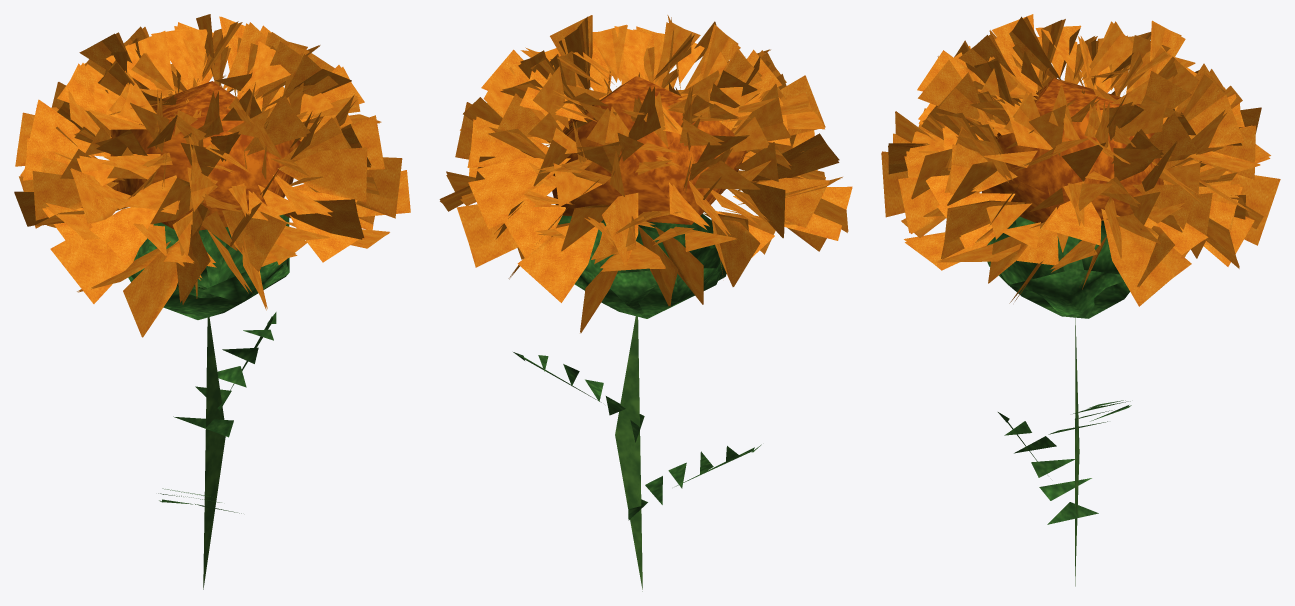
Rendered from flor_cempasuchil_lod.obj.
The picture shows the model from 3 angles, left to right: view 1: azimuth 30°, elevation 25°; view 2: azimuth 150°, elevation 25°; view 3: azimuth 270°, elevation 25°; orthographic projection.
Visible parts, largest first — view 1: Flor_Cempasuchil; view 2: Flor_Cempasuchil; view 3: Flor_Cempasuchil.
Part boxes in pixels (x1,y1,x2,y2): Flor_Cempasuchil: [14, 14, 410, 589]; Flor_Cempasuchil: [439, 15, 852, 591]; Flor_Cempasuchil: [881, 14, 1280, 586].
Size of the model in its own units: 0.2395 by 0.3582 by 0.2371.
4 materials, 4 textured.
